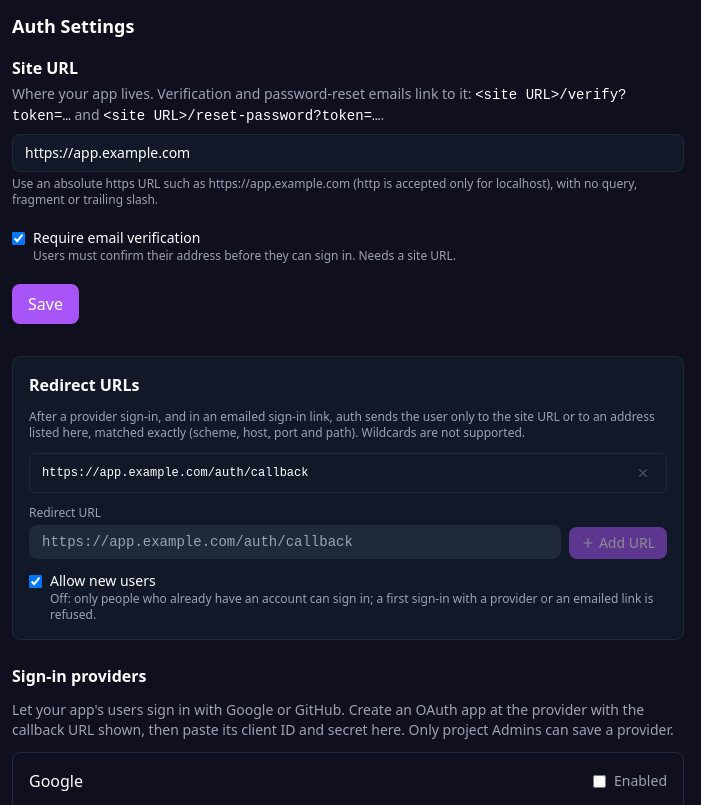
Scenario: end-user sign-in settings › refuse a redirect URL that is not absolute before asking the server
Type "app.example.com/cb" into the field labelled "Redirect URL" at [295, 542], box [29,525,561,559]
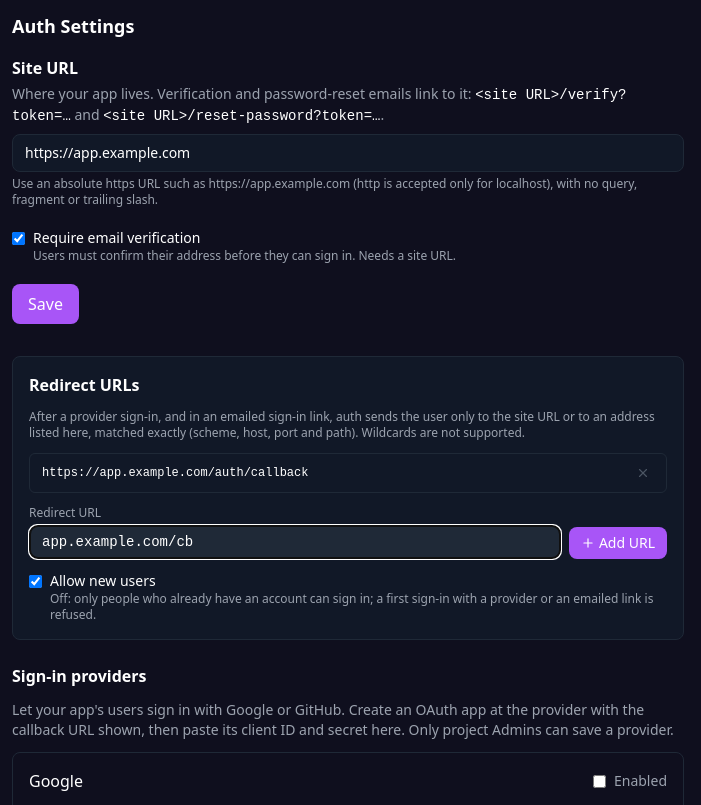
Click the button "Add URL" at [618, 543], box [569,527,667,559]
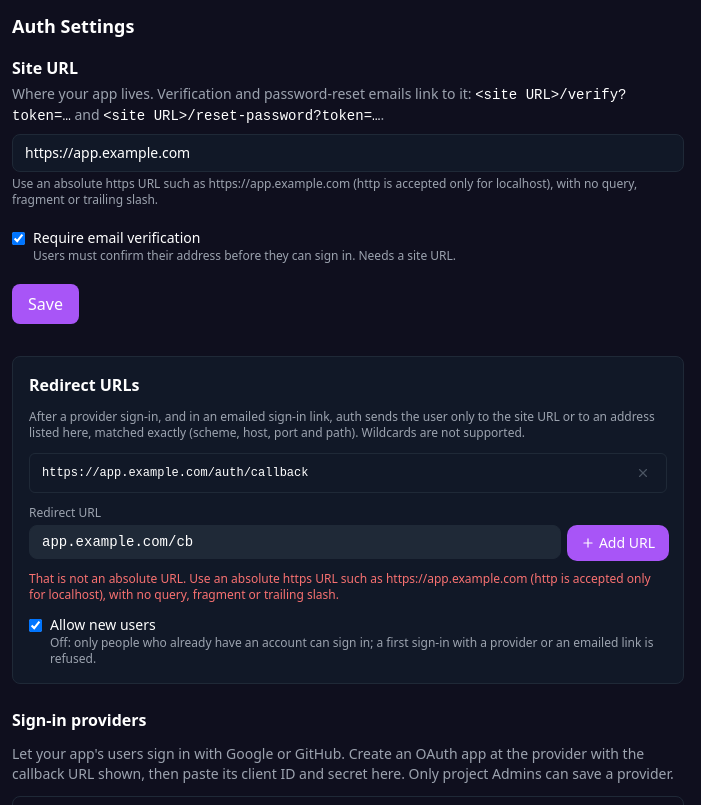
Expected: the message shows "absolute", [29,570,651,603]
